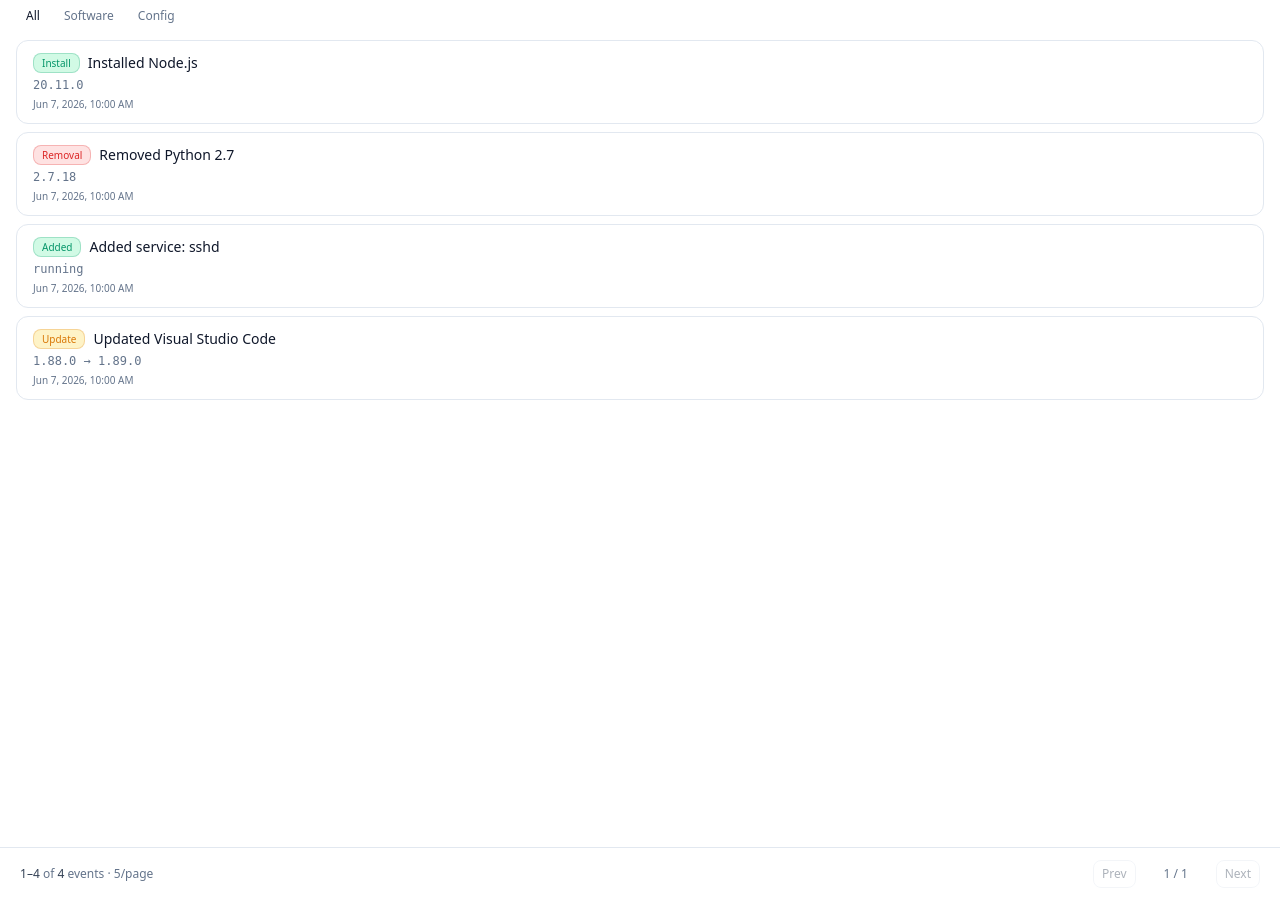
Test: TimelineEventList › filters to config category
Click the button "Config".
click(156, 16)  # box [128,4,185,28]
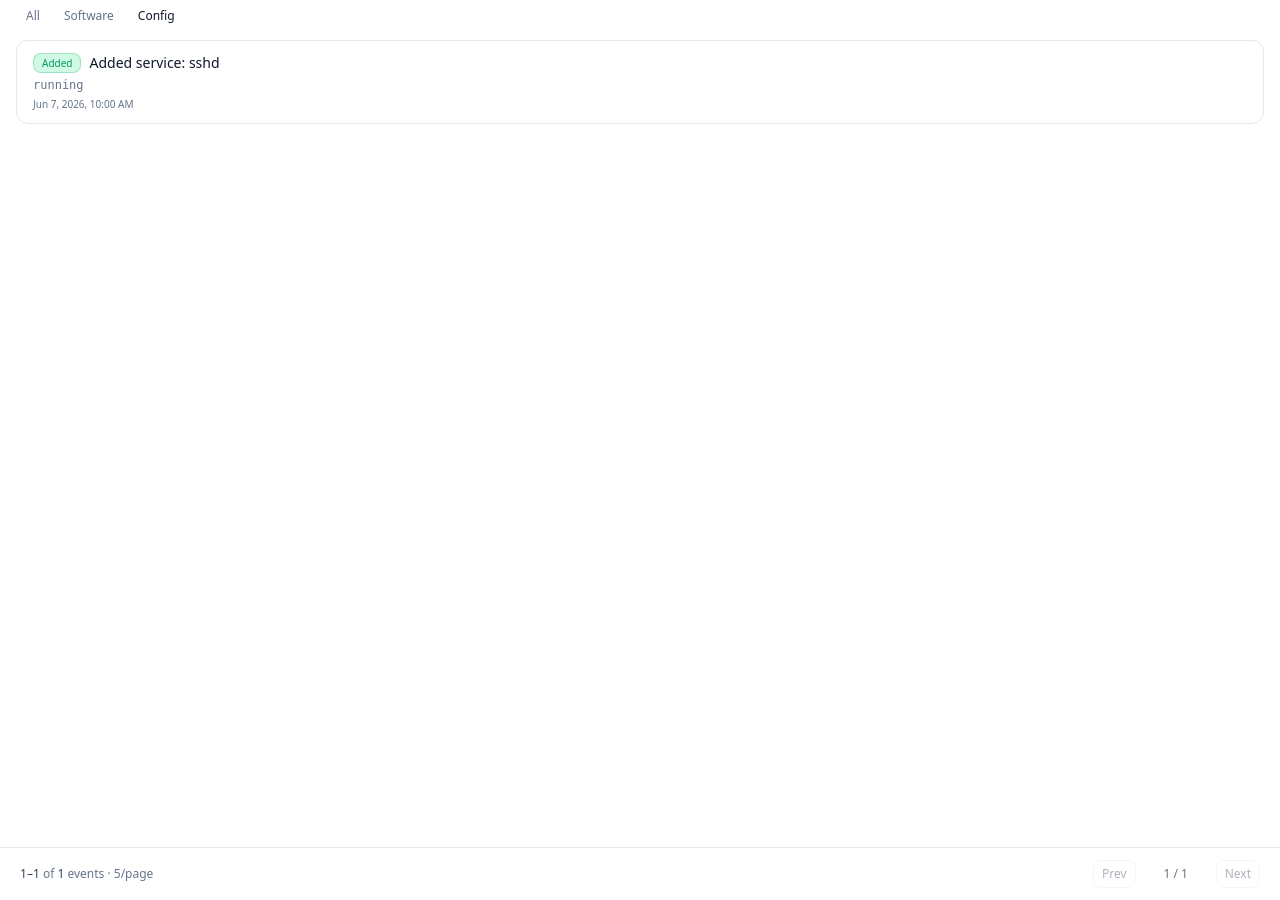
Expected: the text "Installed Node.js" is gone
Expected: the text "Removed Python 2.7" is gone
Expected: the text "Updated Visual Studio Code" is gone
